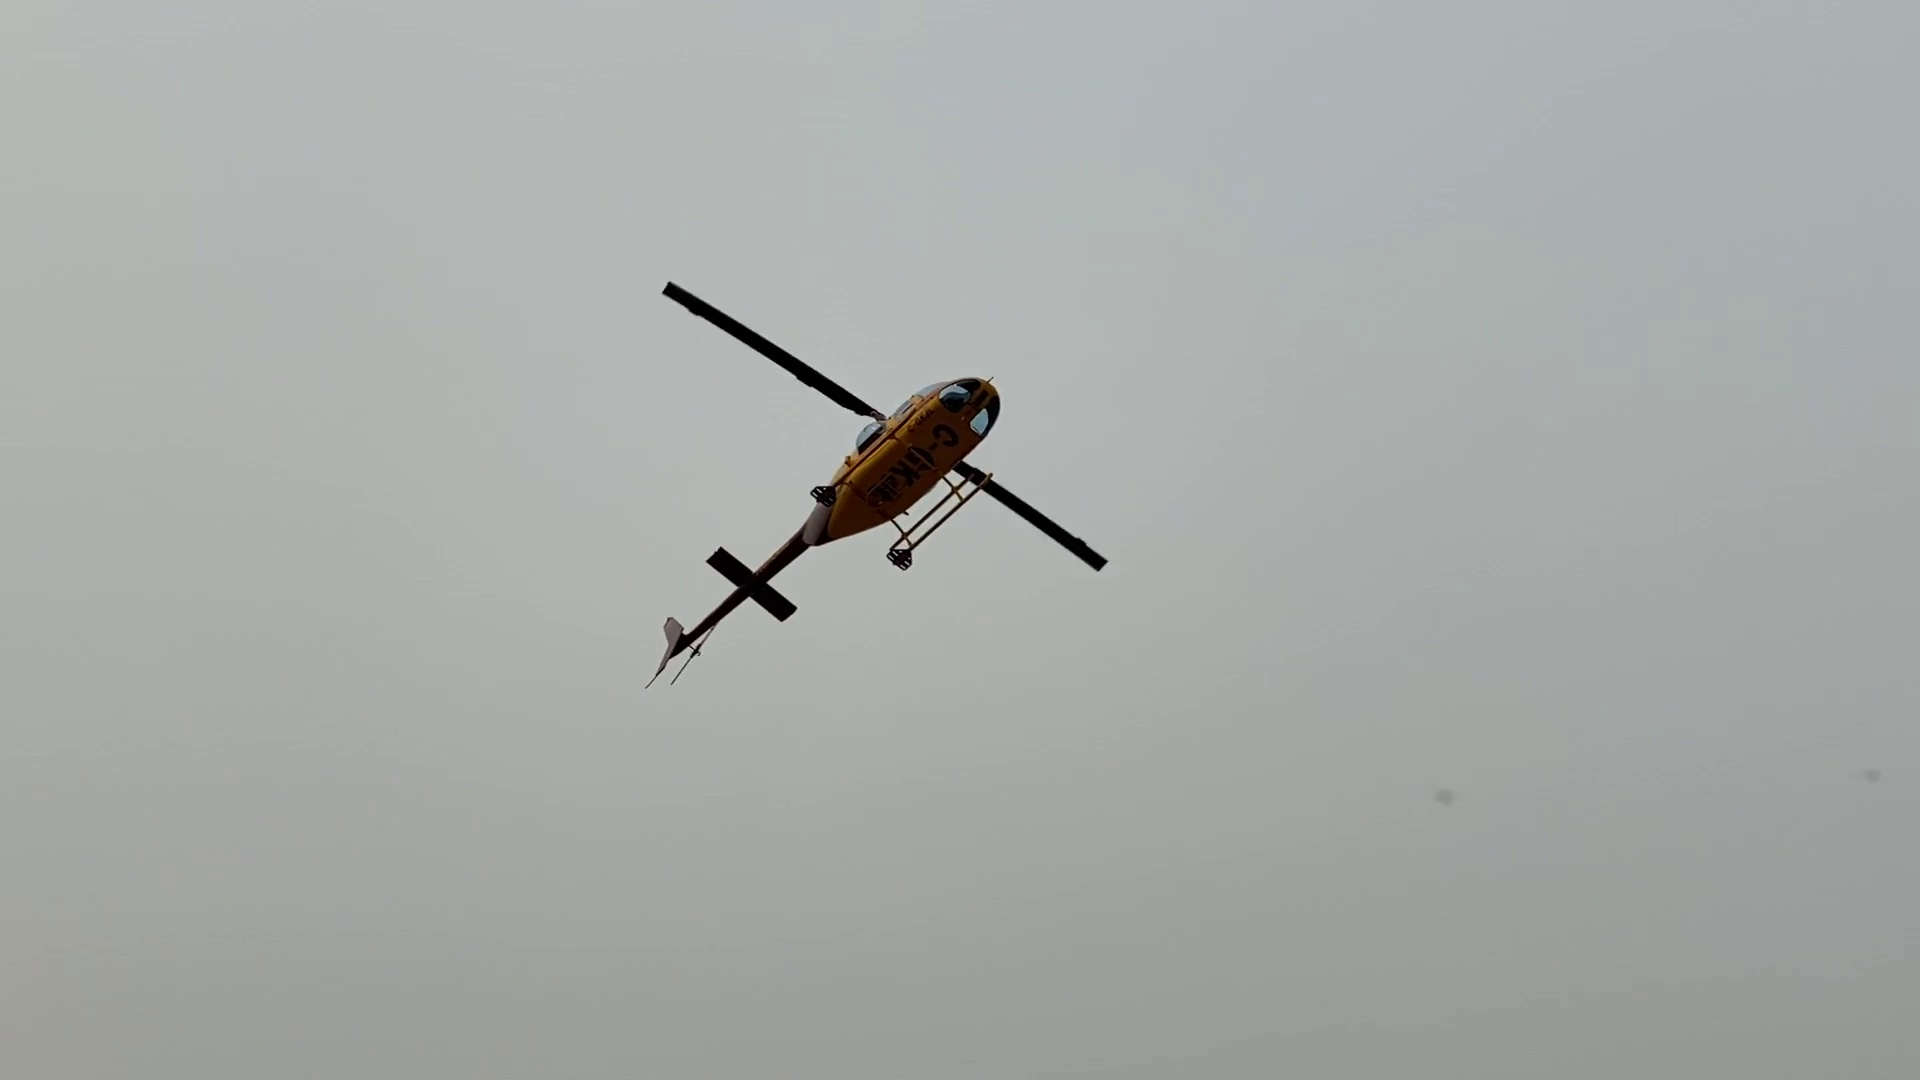heli: (650, 278, 1108, 676)
